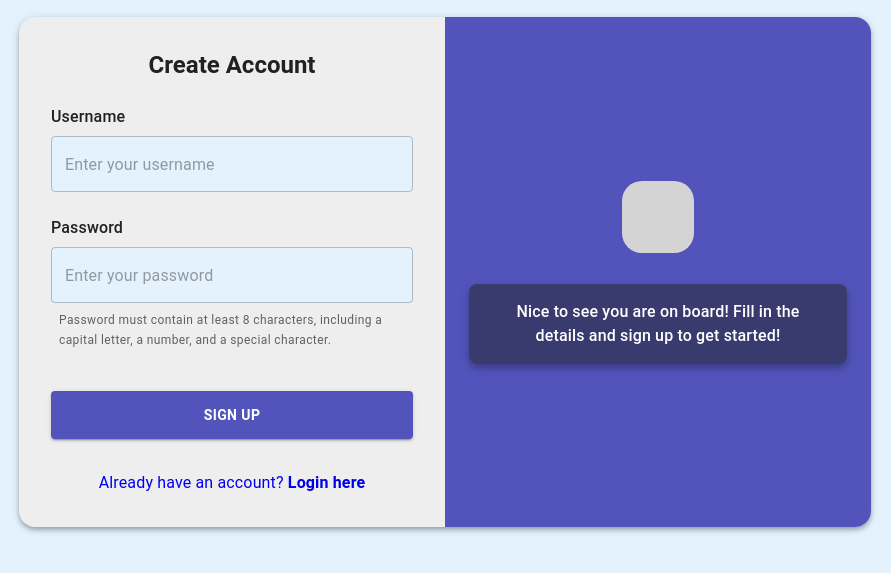
Test case: AddUser component › should show username error when there is a username-related error
The width and height of the screenshot is (891, 573).
Type "ab" into the field labelled "Username" at [232, 164], box left=51, top=136, right=413, bottom=192
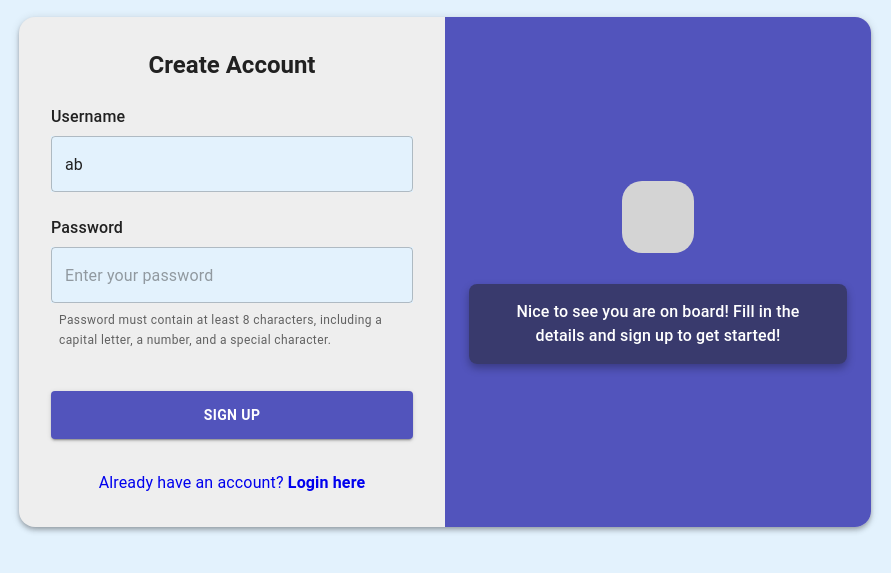
Type "Password123!" into the password field labelled "Password" at [232, 275], box left=51, top=247, right=413, bottom=303
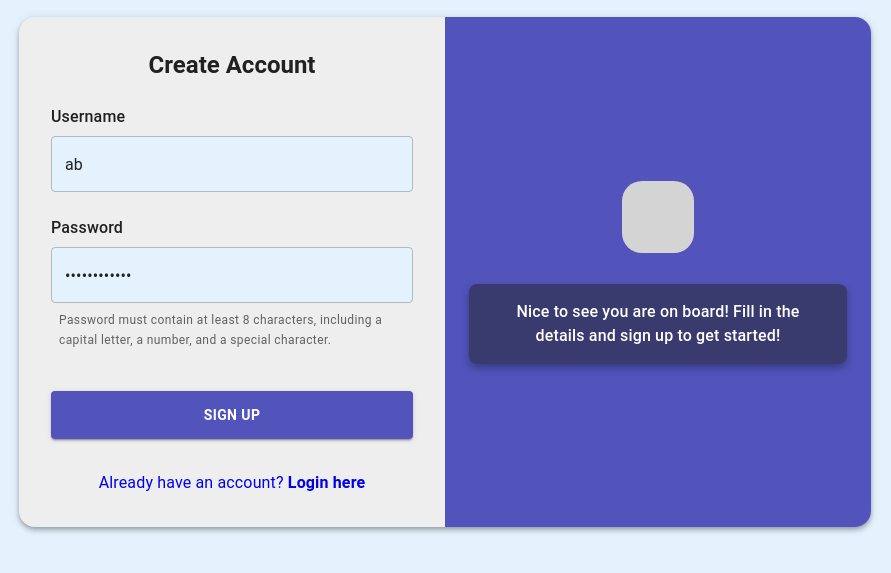
Click the button "Sign Up" at [232, 415], box left=51, top=391, right=413, bottom=439
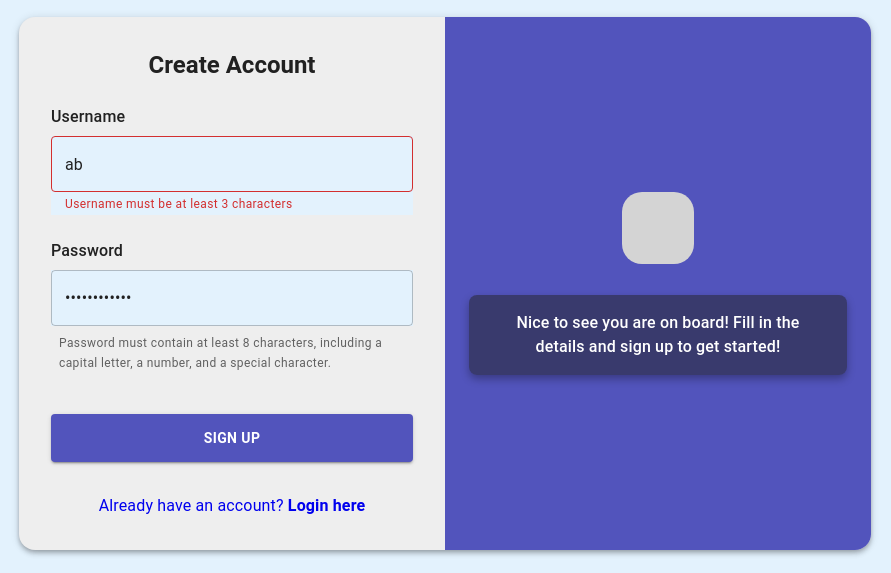
Now the text "Username must be at least 3 characters" is shown, box left=65, top=197, right=293, bottom=211
